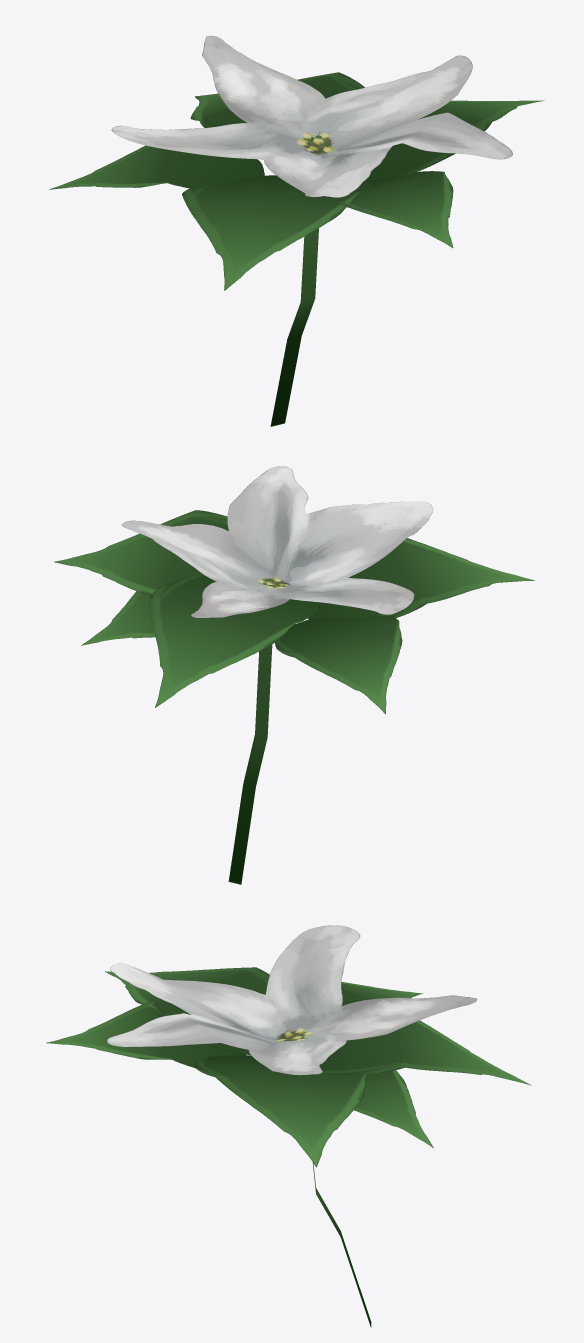
Rendered from sampaguitaFlower_A.fbx.
3 renders of one model, top to bottom at view 1: azimuth 30°, elevation 25°; view 2: azimuth 150°, elevation 25°; view 3: azimuth 270°, elevation 25°, orthographic. The views are drawn at different scales.
Visible parts, largest first — view 1: sampaguitaFlower_A_geo; view 2: sampaguitaFlower_A_geo; view 3: sampaguitaFlower_A_geo.
Part boxes in pixels (x1=…): sampaguitaFlower_A_geo: x1=49, y1=35, x2=544, y2=426; sampaguitaFlower_A_geo: x1=54, y1=466, x2=534, y2=884; sampaguitaFlower_A_geo: x1=46, y1=925, x2=531, y2=1327.
Size of the model in its own units: 18.22 by 12.18 by 19.04.
